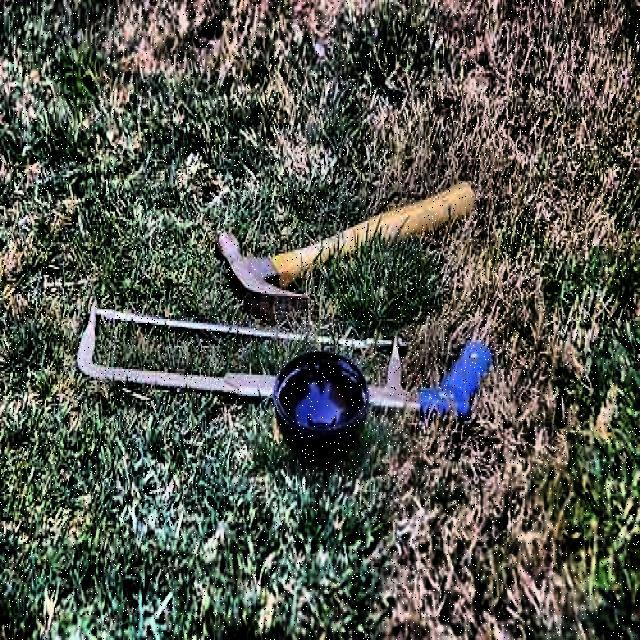hammer: (219, 180, 479, 329)
